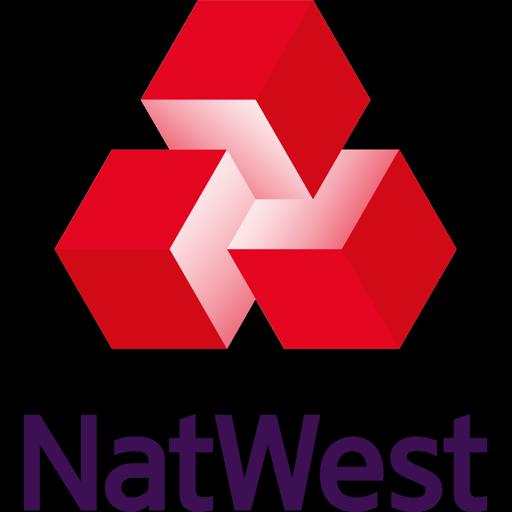NatWest Personal Banking: (24, 0, 488, 512)
